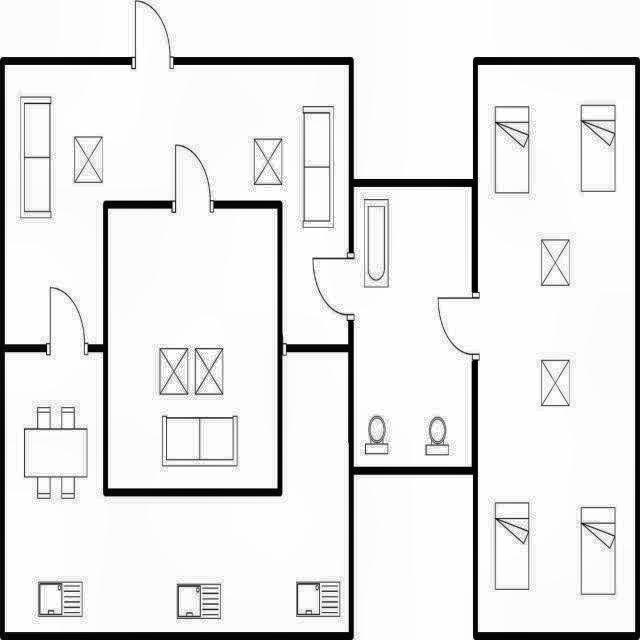room: (5, 352, 349, 632), (5, 65, 349, 344), (478, 65, 635, 632), (108, 208, 278, 488), (354, 187, 472, 467)
